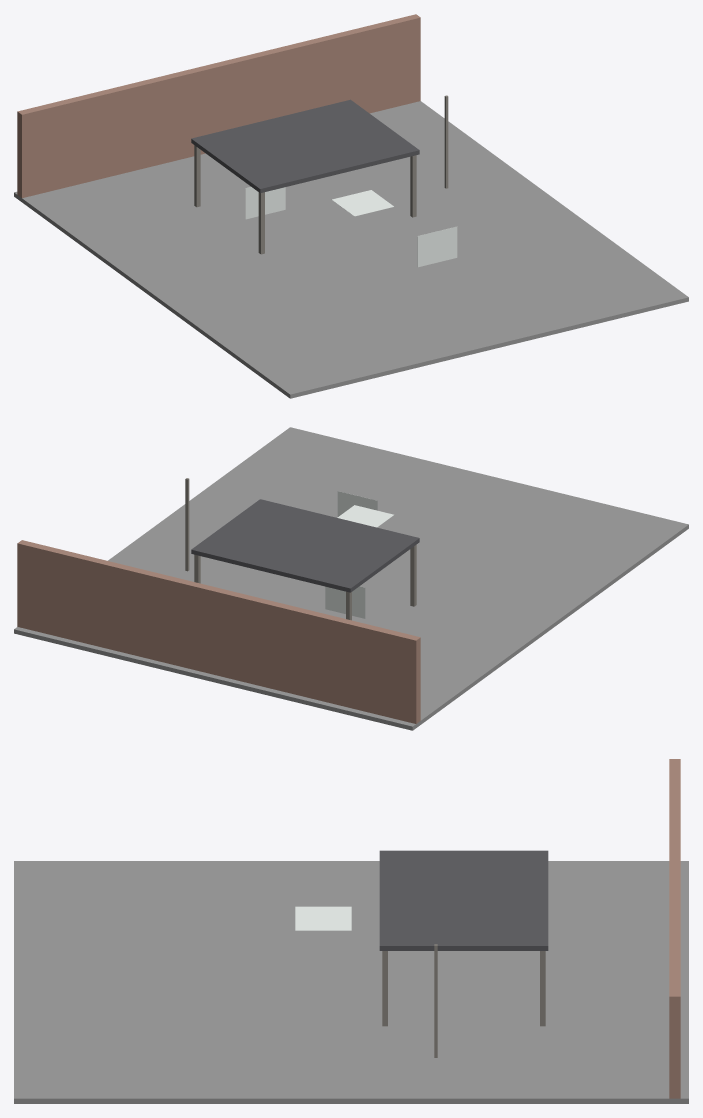
The model's file is rain_glass_fixture.gltf.
The picture shows the model from 3 angles, top to bottom: view 1: azimuth 30°, elevation 25°; view 2: azimuth 150°, elevation 25°; view 3: azimuth 270°, elevation 25°; orthographic projection. The views are drawn at different scales.
Visible parts, largest first — view 1: ground_porous, ground_sealed, wall, roof, pane_open, pane_canopy, pane_covered; view 2: ground_porous, wall, ground_sealed, roof, pane_covered, pane_canopy, pane_open; view 3: ground_sealed, ground_porous, roof, wall, pane_canopy.
Part boxes in pixels (x1=…): ground_porous: x1=14, y1=153, x2=489, y2=398; ground_sealed: x1=285, y1=101, x2=688, y2=349; wall: x1=17, y1=14, x2=420, y2=198; roof: x1=191, y1=99, x2=419, y2=193; pane_open: x1=417, y1=226, x2=457, y2=267; pane_canopy: x1=332, y1=190, x2=393, y2=216; pane_covered: x1=245, y1=187, x2=285, y2=219; ground_porous: x1=213, y1=476, x2=688, y2=730; wall: x1=17, y1=540, x2=420, y2=723; ground_sealed: x1=14, y1=427, x2=489, y2=681; roof: x1=191, y1=499, x2=419, y2=592; pane_covered: x1=325, y1=586, x2=365, y2=618; pane_canopy: x1=337, y1=505, x2=393, y2=527; pane_open: x1=337, y1=491, x2=377, y2=516; ground_sealed: x1=14, y1=980, x2=688, y2=1103; ground_porous: x1=14, y1=861, x2=688, y2=979; roof: x1=379, y1=850, x2=548, y2=950; wall: x1=669, y1=759, x2=680, y2=1098; pane_canopy: x1=295, y1=906, x2=351, y2=930.
Size of the model in its own units: 20 by 4.6 by 24.
